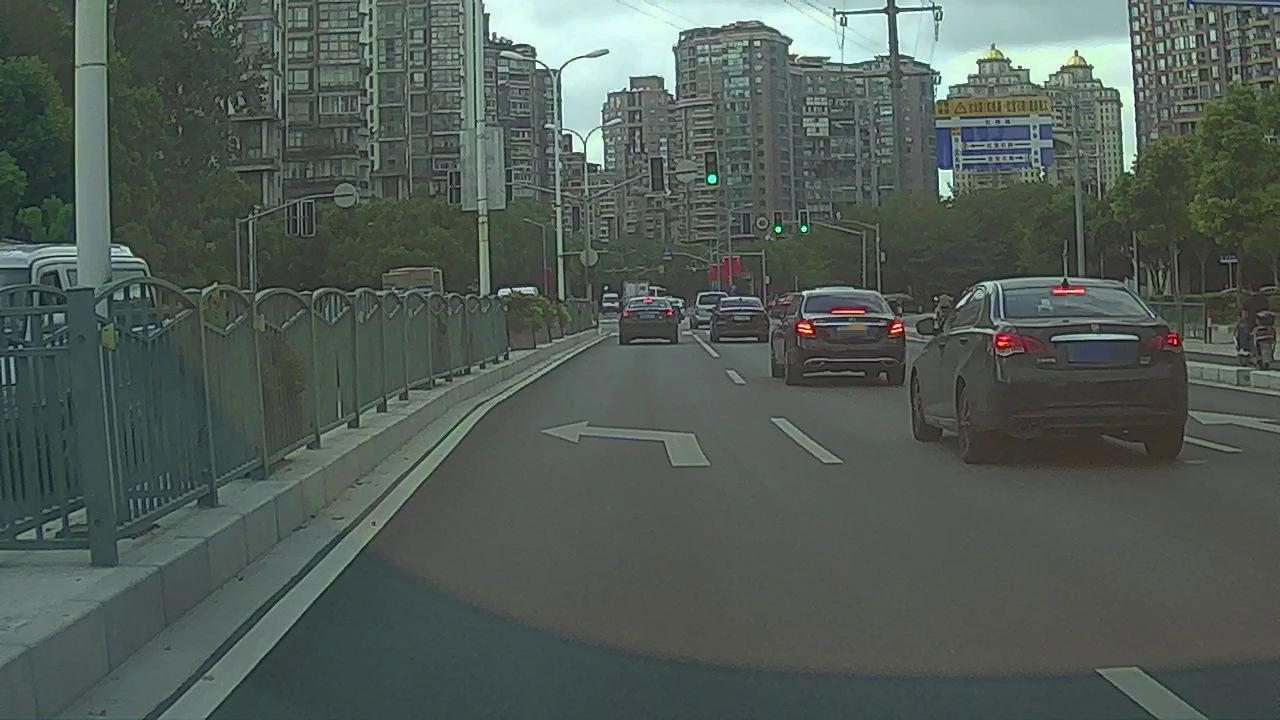traffic_light: (649, 157, 664, 193), (704, 152, 718, 186), (799, 211, 809, 235), (773, 212, 782, 234)
